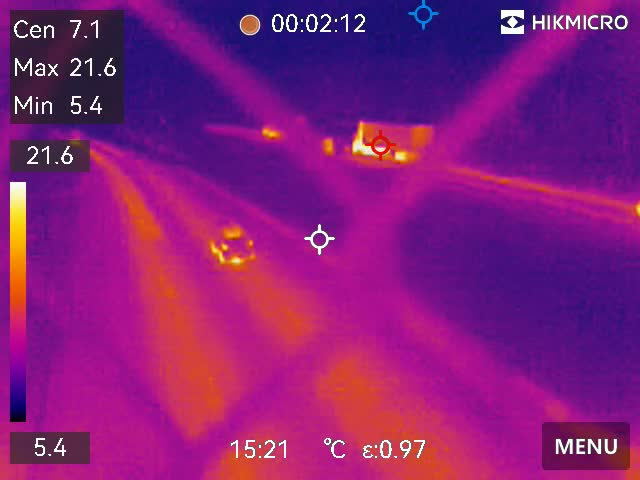heavyTruck: (351, 117, 435, 159)
vehicle: (209, 217, 259, 271)
